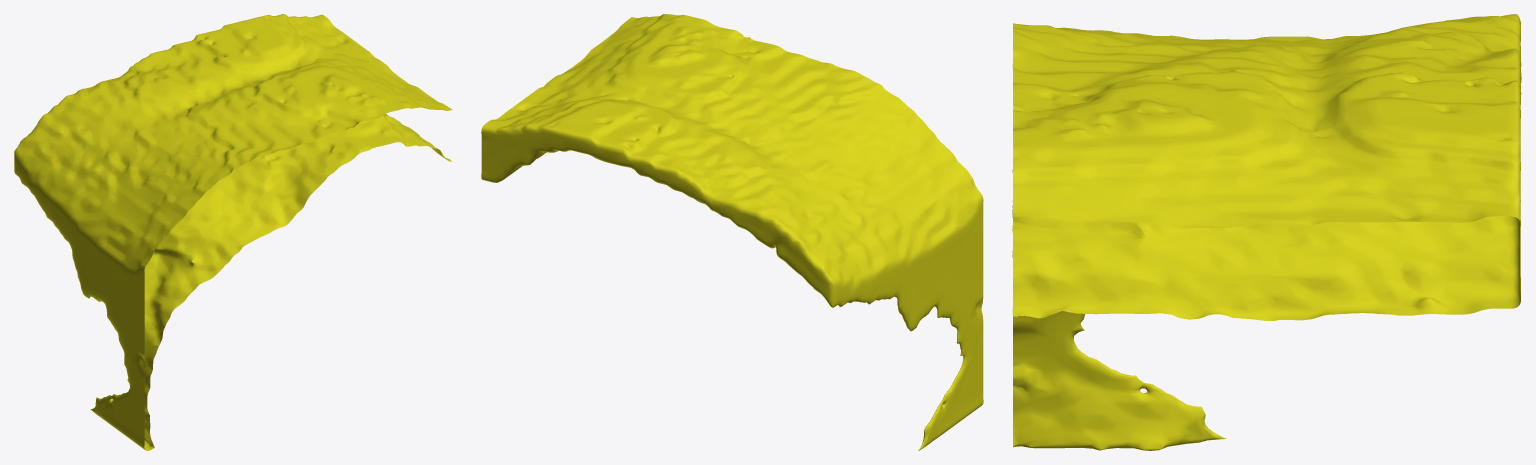
Rendered from Subcutaneous1.obj.
3 renders of one model, left to right at view 1: azimuth 30°, elevation 25°; view 2: azimuth 150°, elevation 25°; view 3: azimuth 270°, elevation 25°, orthographic. The views are drawn at different scales.
Parts seen in each view (by area): view 1: subcutaneous_fat1; view 2: subcutaneous_fat1; view 3: subcutaneous_fat1.
Part boxes in pixels (<box>): subcutaneous_fat1: <box>14,14,452,450</box>; subcutaneous_fat1: <box>481,14,983,450</box>; subcutaneous_fat1: <box>1012,14,1521,450</box>.
Bounding box in the file's own units: 0.1525 × 0.1337 × 0.1132.
